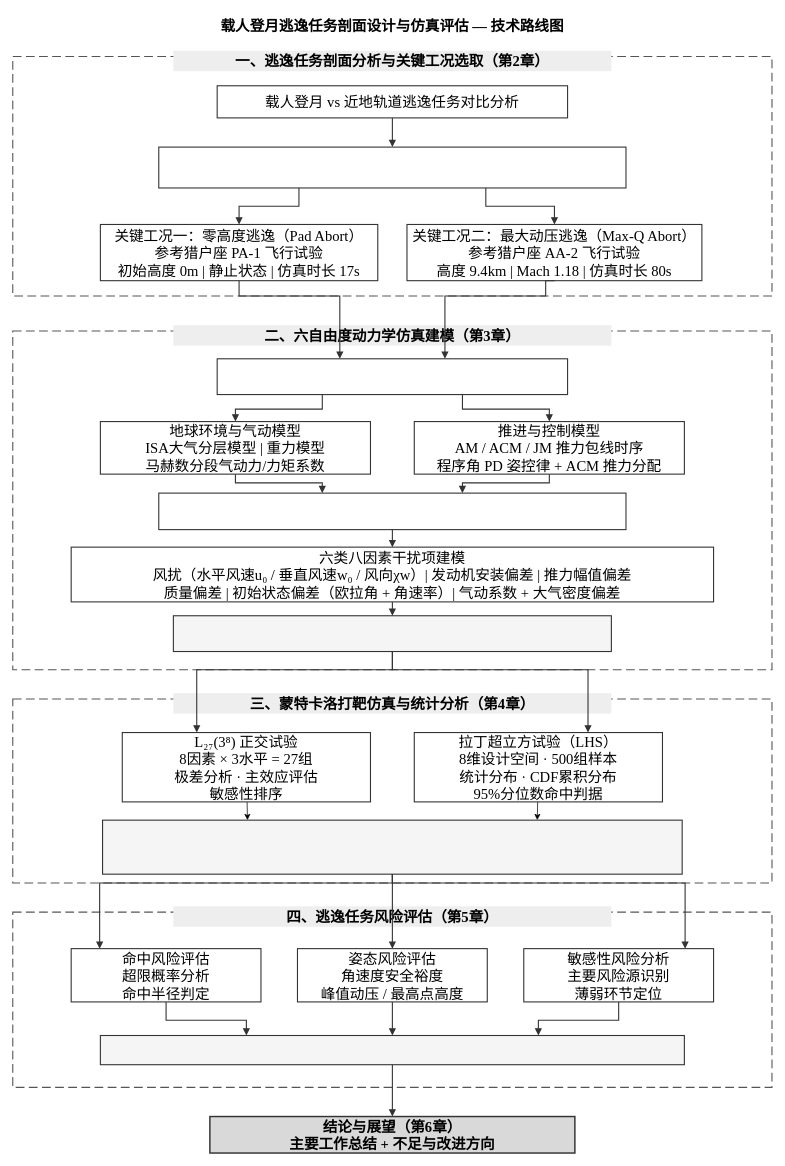
This 785x1166 diagram has some shape labels left out. Each missing label, with the centre of its shape:
"两种工况综合对比评估 → 风险等级判定 | 尾部风险分析 | 工程改进建议" belongs at pixel 392 1050.
"全任务链逃逸剖面设计 待发段 | 最大动压区 | 高空逃逸 | 轨道飞行 | 登月阶段 | 返回阶段" belongs at pixel 392 167.
"六自由度全耦合运动微分方程组 平动动力学 + 转动动力学（欧拉方程）+ 姿态运动学 + 位置运动学" belongs at pixel 392 511.
"坐标系定义与运动学描述 地面系 / 机体系 / 弹道系 / 速度系 + 欧拉角变换矩阵" belongs at pixel 392 376.
"打靶统计与敏感性综合分析 水平脱靶量 Dₕ | 三维脱靶量 D₃ᴅ | 命中率 | 敏感因素排序 | 关键指标分布 | Pad vs Max-Q 对比" belongs at pixel 392 846.
"数值积分求解（MATLAB ode45，RK45 变步长） 相对容差 10⁻⁸ | 绝对容差 10⁻¹⁰ | 抛塔事件分段积分" belongs at pixel 392 633.
